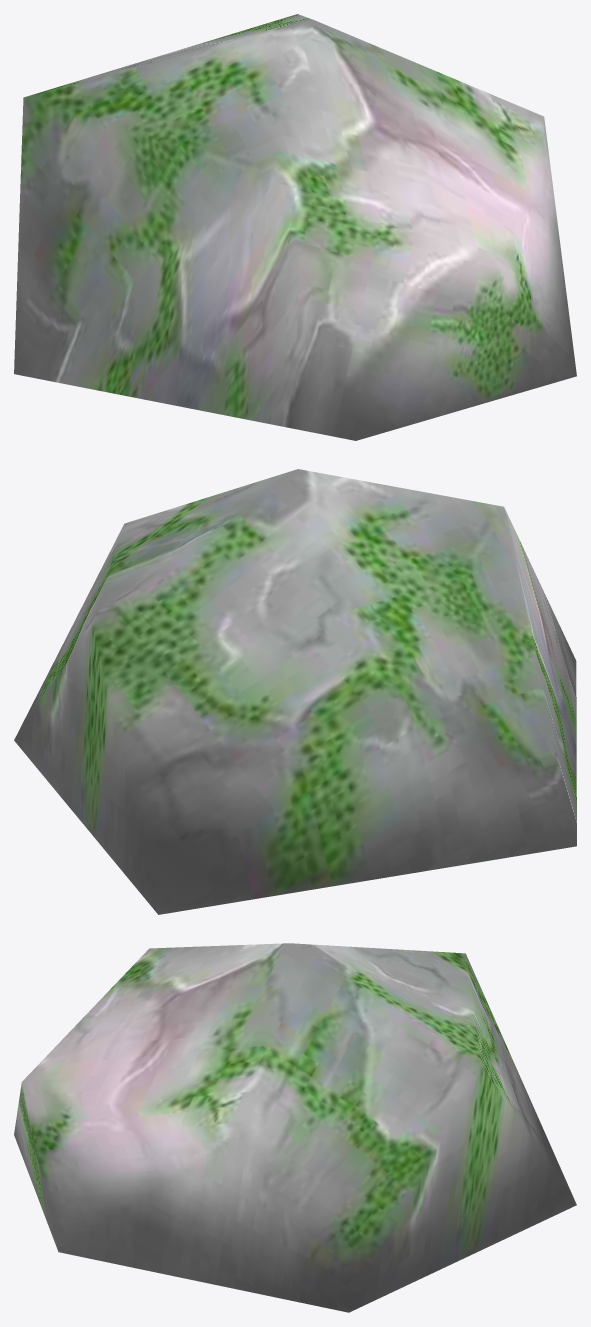
Rendered from Stone1.gltf.
3 views of the same model, one above another, from view 1: azimuth 30°, elevation 25°; view 2: azimuth 150°, elevation 25°; view 3: azimuth 270°, elevation 25° (orthographic). The views are drawn at different scales.
Visible parts, largest first — view 1: rock; view 2: rock; view 3: rock.
Part boxes in pixels (x1,y1,x2,y2): rock: (14,14,576,440); rock: (14,469,576,914); rock: (14,943,576,1312).
Size of the model in its own units: 2.49 by 1.57 by 2.6.
Materials: 1 (1 with a texture image).
